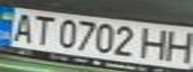0: (93, 21, 118, 55), (54, 16, 78, 50)
2: (112, 23, 139, 57)
7: (75, 18, 96, 52)
A: (6, 10, 39, 43)
H: (139, 26, 175, 61), (163, 28, 193, 64)
T: (27, 12, 57, 46)
